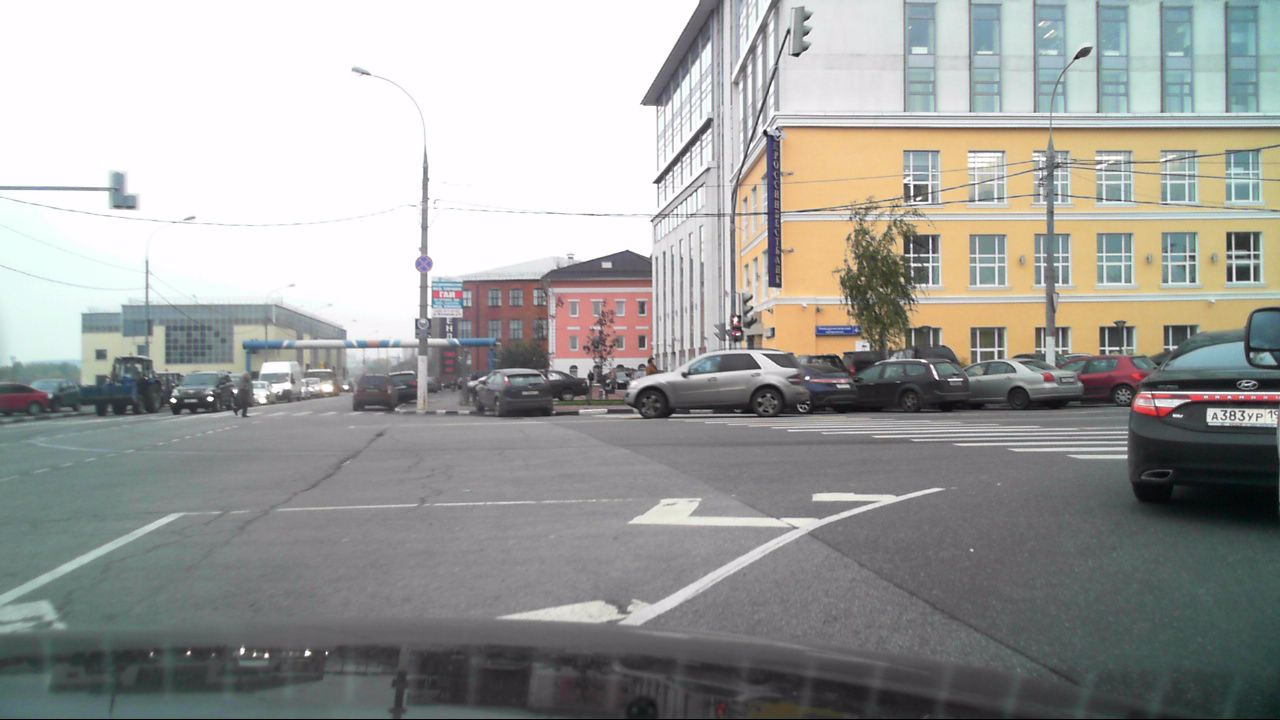No Parking: (413, 254, 435, 273)
